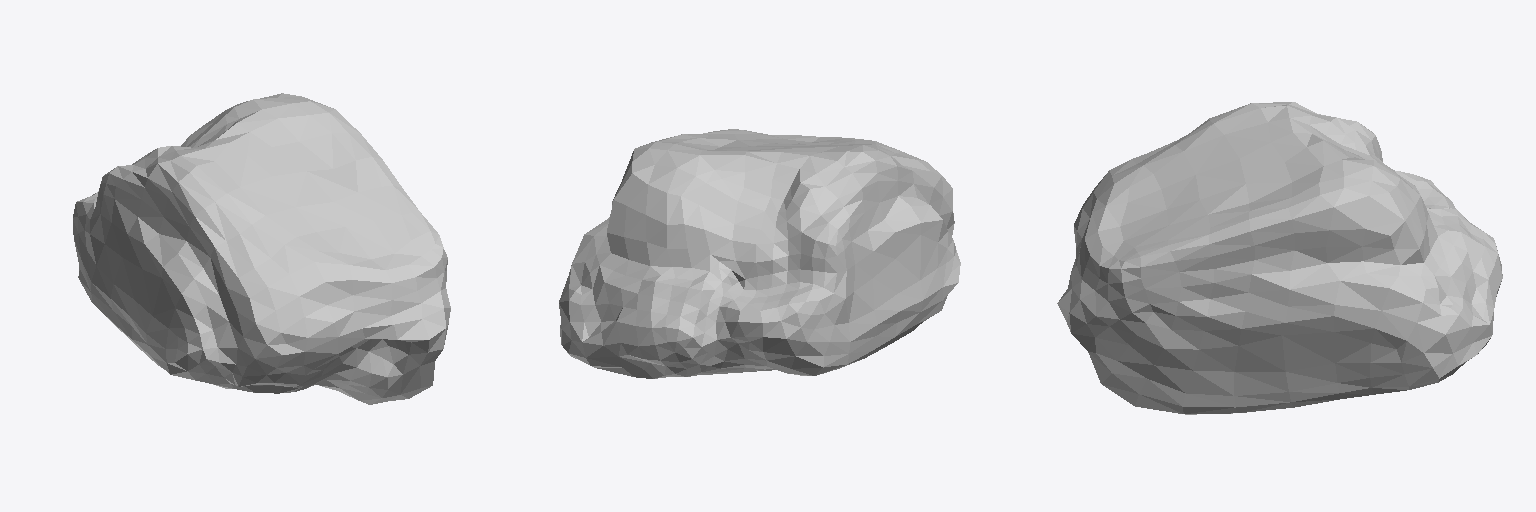
The model's file is pied.OBJ.
The picture shows the model from 3 angles: view 1: azimuth 30°, elevation 25°; view 2: azimuth 150°, elevation 25°; view 3: azimuth 270°, elevation 25°; orthographic projection.
Parts seen in each view (by area): view 1: pied; view 2: pied; view 3: pied.
Part boxes in pixels (x1,y1,x2,y2): pied: (73,93,450,404); pied: (559,129,960,378); pied: (1057,102,1502,414).
Size of the model in its own units: 5.42 by 4.43 by 7.7.